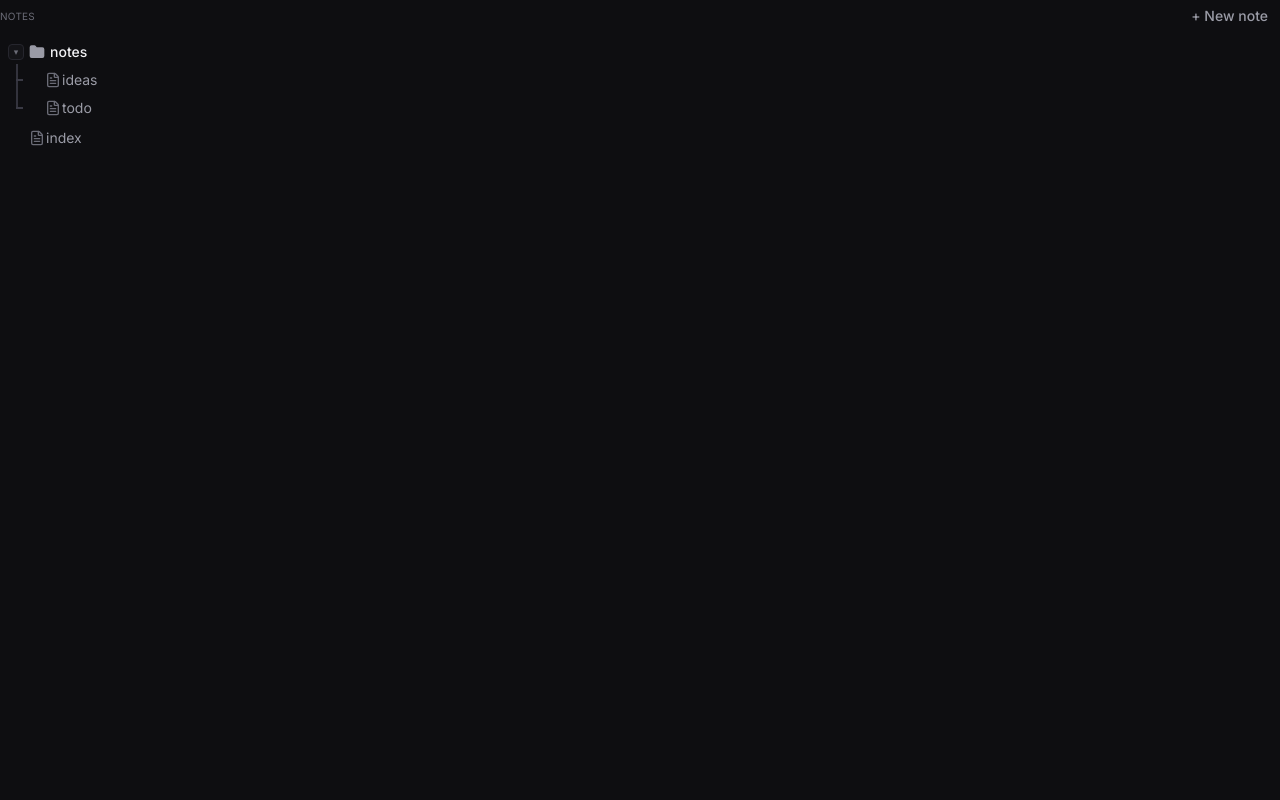
Scenario: FolderTree › right-click → Set icon opens the picker
The image size is (1280, 800).
Right-click the button "index" at (64, 138), box [46,124,1272,152]
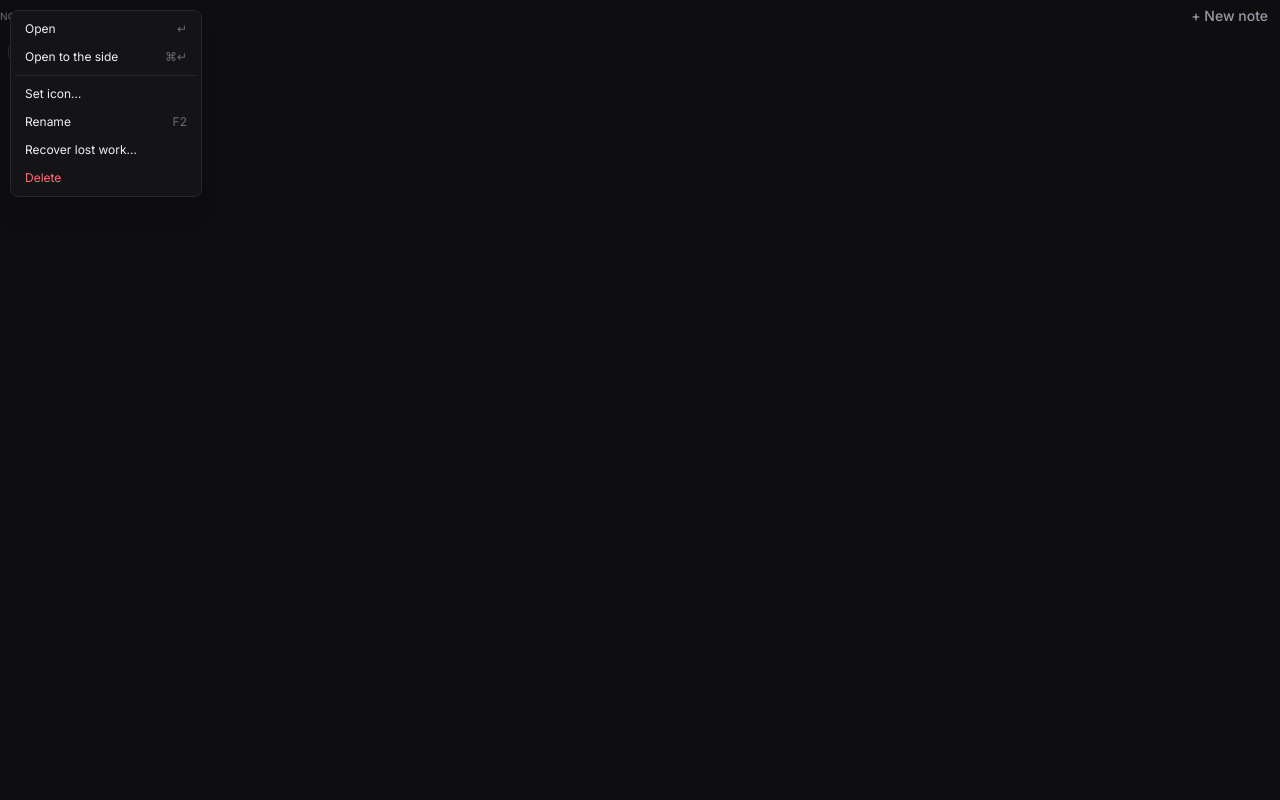
Click the menu item "Set icon…" at (106, 94), box [15,80,197,108]
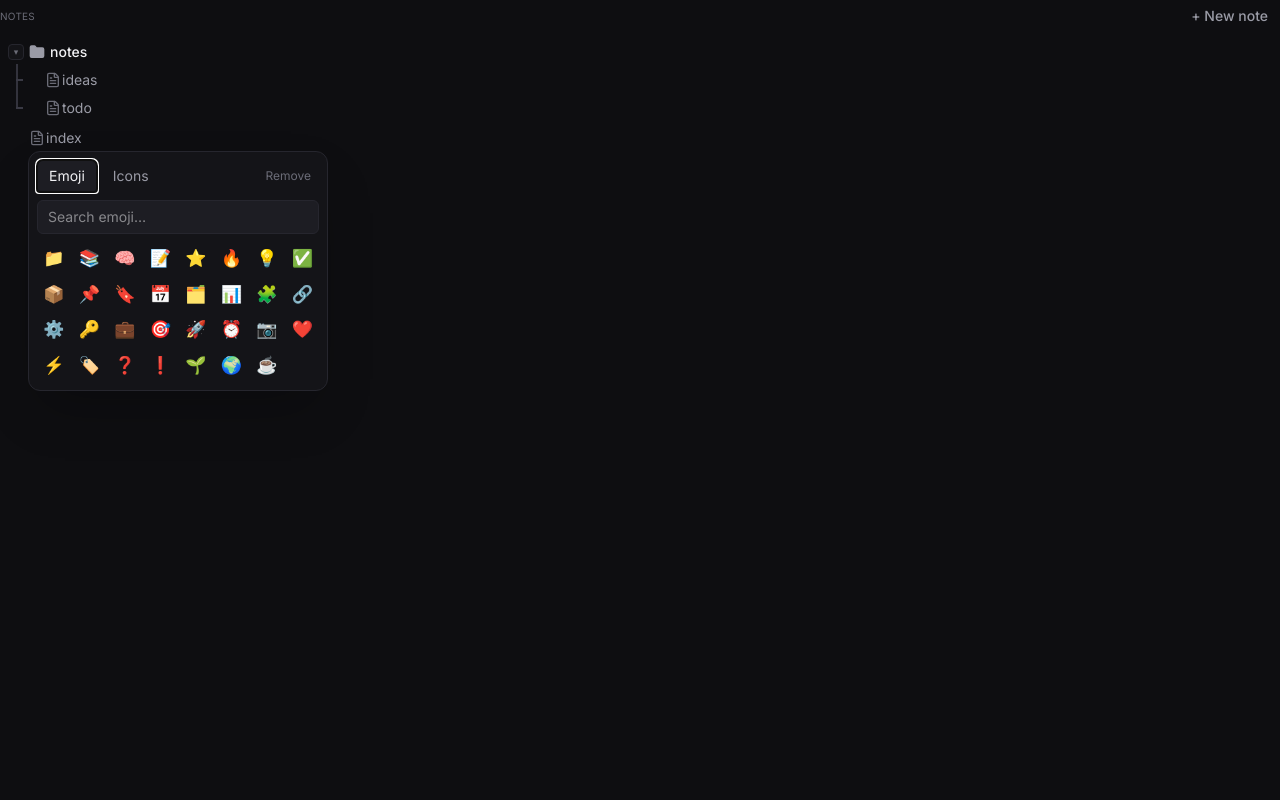
Now the tab "Emoji" is shown, box [37,160,97,192]
